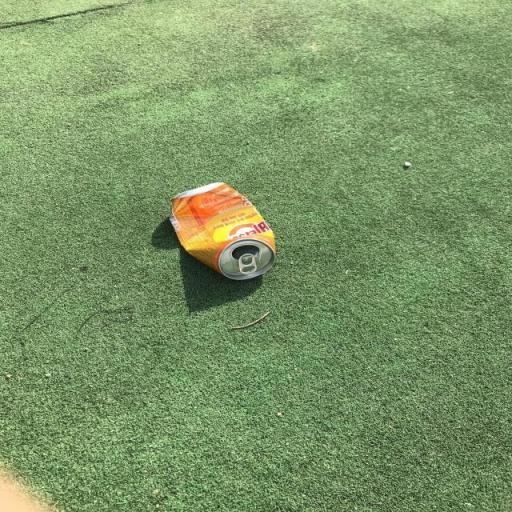metal: (147, 170, 297, 303)
